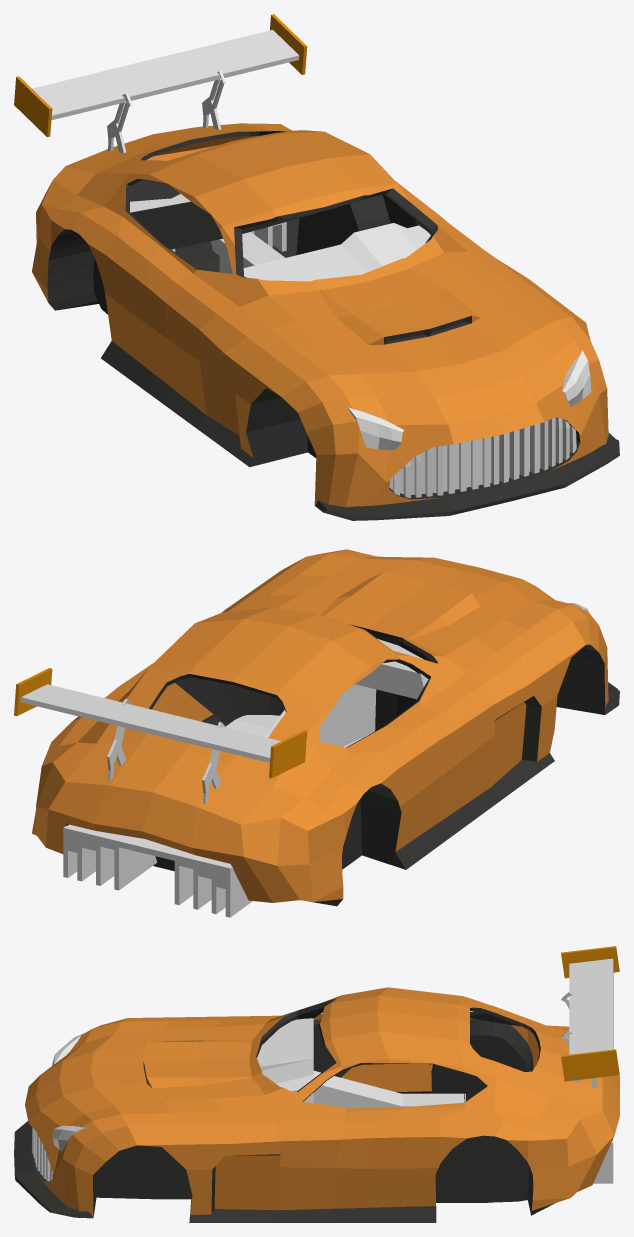
File: amggt3 1.fbx
3 renders of one model, top to bottom at view 1: azimuth 30°, elevation 25°; view 2: azimuth 150°, elevation 25°; view 3: azimuth 270°, elevation 25°, orthographic. The views are drawn at different scales.
Visible parts, largest first — view 1: Body, Heckspoiler, Grill, Interrior, LichterFrint, Spilerhalter, Diffusor; view 2: Body, Heckspoiler, Diffusor, Interrior, Spilerhalter; view 3: Body, Heckspoiler, Interrior, LichterFrint, Grill, Diffusor.
Part boxes in pixels (x1,y1,x2,y2): Body: [32, 123, 619, 520]; Heckspoiler: [14, 14, 307, 137]; Grill: [389, 417, 576, 498]; Interrior: [219, 223, 430, 281]; LichterFrint: [347, 350, 591, 450]; Spilerhalter: [107, 70, 225, 153]; Diffusor: [130, 194, 286, 255]; Body: [32, 549, 619, 906]; Heckspoiler: [14, 668, 307, 778]; Diffusor: [63, 824, 252, 917]; Interrior: [225, 638, 428, 747]; Spilerhalter: [107, 699, 225, 804]; Body: [14, 987, 619, 1222]; Heckspoiler: [561, 946, 619, 1081]; Interrior: [257, 1018, 465, 1107]; LichterFrint: [52, 1033, 85, 1151]; Grill: [32, 1127, 52, 1181]; Diffusor: [593, 1139, 613, 1183].
Bounding box in the file's own units: 239 × 146 × 490.
